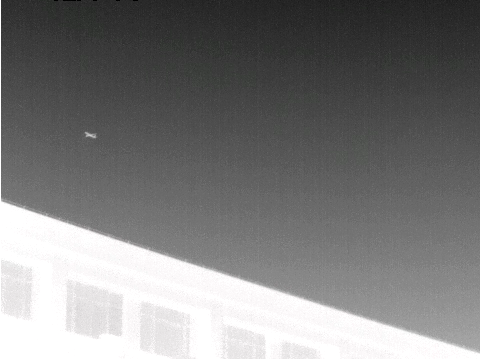dim target: (84, 131, 98, 140)
